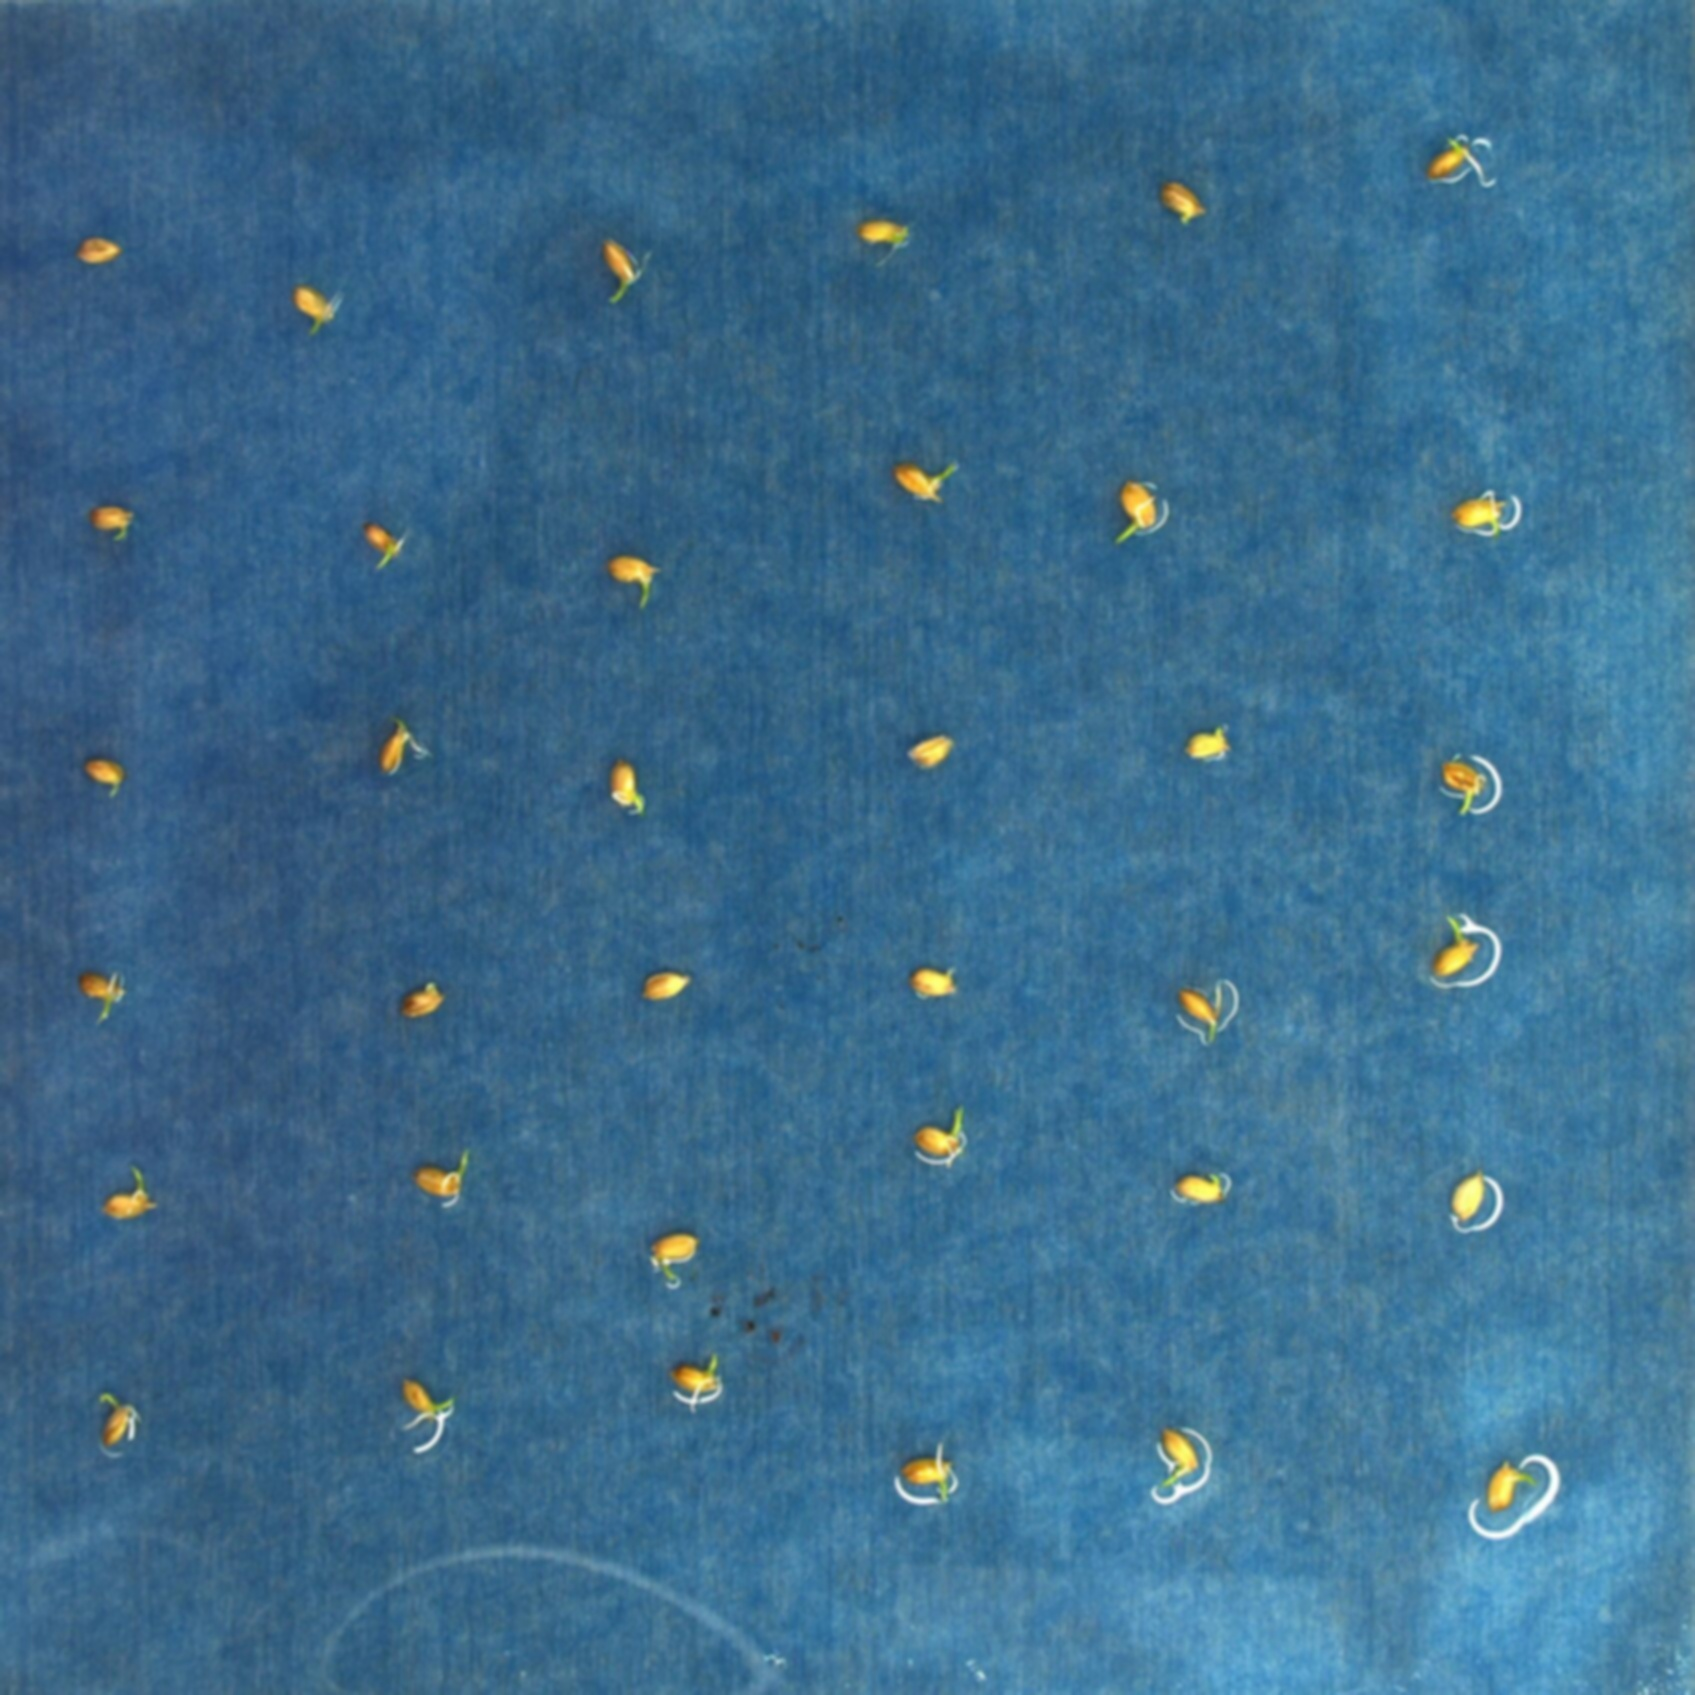not sprout: (1146, 1414, 1217, 1498), (1167, 973, 1236, 1049), (1467, 1450, 1537, 1523), (1448, 487, 1527, 551), (393, 1372, 453, 1450), (598, 748, 655, 826), (658, 1354, 742, 1406), (1431, 1161, 1496, 1225), (882, 458, 964, 508), (638, 1212, 709, 1267), (70, 969, 135, 1023), (287, 279, 351, 334), (857, 210, 914, 267), (897, 723, 962, 771), (78, 750, 141, 798), (633, 961, 698, 1007), (410, 1155, 470, 1205), (911, 951, 964, 1001), (1170, 1161, 1226, 1208), (1158, 180, 1209, 225), (1173, 719, 1229, 757), (397, 976, 442, 1023), (81, 227, 130, 269)
sprout: (85, 1381, 157, 1456), (1110, 477, 1164, 560), (910, 1104, 973, 1175), (1419, 910, 1487, 973), (897, 1445, 959, 1510), (1422, 130, 1495, 185), (373, 714, 433, 778), (593, 237, 649, 304), (1437, 751, 1489, 821), (102, 1161, 160, 1223), (607, 549, 660, 616), (357, 515, 413, 574), (85, 498, 140, 553)
